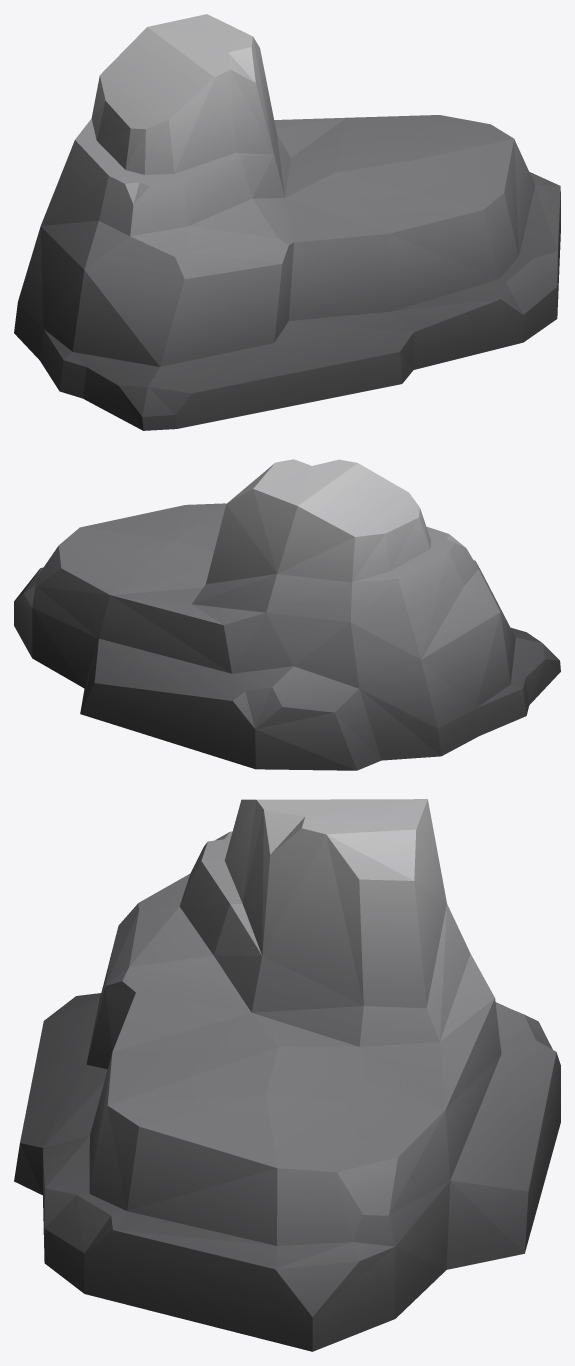
File: RockCliff-03.FBX
The picture shows the model from 3 angles, top to bottom: view 1: azimuth 30°, elevation 25°; view 2: azimuth 150°, elevation 25°; view 3: azimuth 270°, elevation 25°; orthographic projection. The views are drawn at different scales.
Visible parts, largest first — view 1: RockCliff-03; view 2: RockCliff-03; view 3: RockCliff-03.
Boxes of the visible parts, bbox=[...] form: RockCliff-03: bbox=[14, 14, 560, 430]; RockCliff-03: bbox=[14, 459, 560, 770]; RockCliff-03: bbox=[14, 799, 560, 1351].
Size of the model in its own units: 1832 by 850 by 1271.
1 material, 1 textured.
